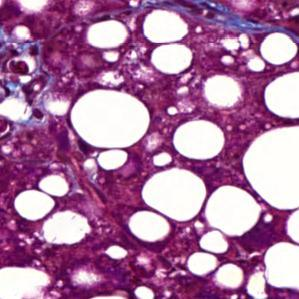steatosis: (241, 126, 299, 211), (174, 121, 225, 158), (261, 31, 299, 68), (129, 212, 170, 243)
